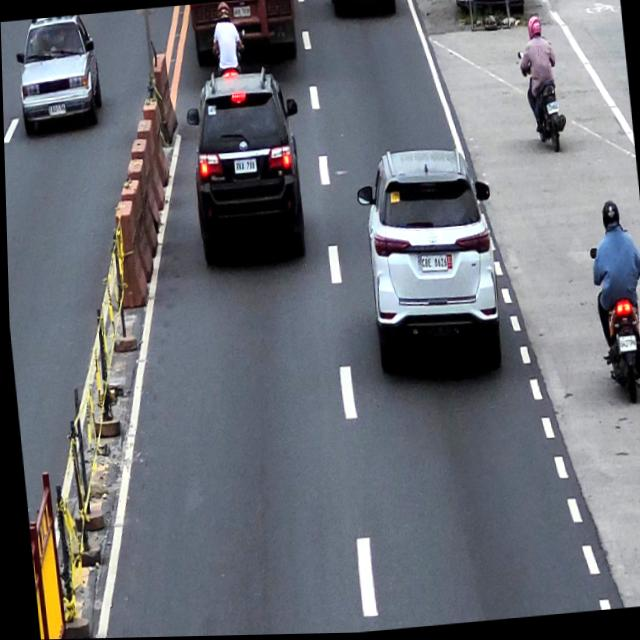Car: (352, 145, 505, 381), (182, 65, 310, 268)
License-Plate: (418, 254, 447, 275), (232, 157, 257, 175), (616, 338, 634, 354), (545, 103, 558, 116)
Motorcycle: (587, 242, 640, 410), (516, 46, 568, 159)
